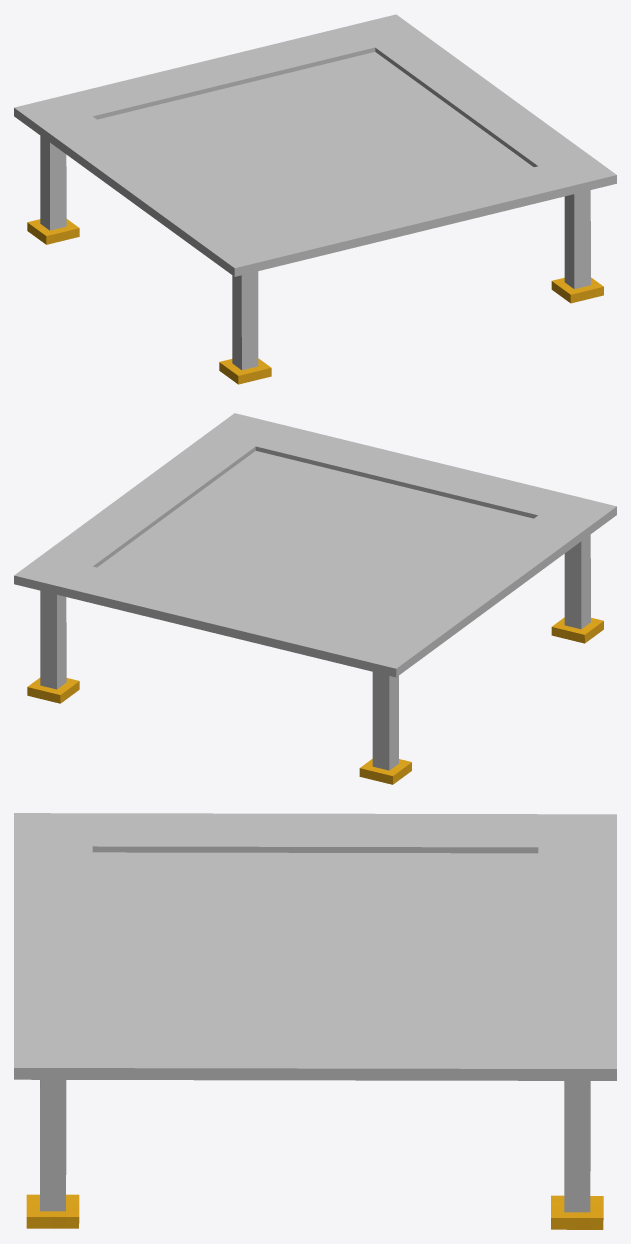
The model's file is trampoline.fbx.
3 views of the same model, one above another, from view 1: azimuth 30°, elevation 25°; view 2: azimuth 150°, elevation 25°; view 3: azimuth 270°, elevation 25° (orthographic). The views are drawn at different scales.
Visible parts, largest first — view 1: Object_3, Object_2, Object_4; view 2: Object_3, Object_2, Object_4; view 3: Object_3, Object_2, Object_4.
Boxes of the visible parts, x1,y1,x2,y2 form: Object_3: [40, 52, 590, 370]; Object_2: [14, 14, 616, 276]; Object_4: [27, 219, 603, 384]; Object_3: [40, 451, 590, 770]; Object_2: [14, 413, 616, 677]; Object_4: [27, 617, 603, 784]; Object_3: [40, 852, 590, 1212]; Object_2: [14, 813, 616, 1080]; Object_4: [26, 1194, 603, 1229].
Size of the model in its own units: 752 by 231 by 752.
